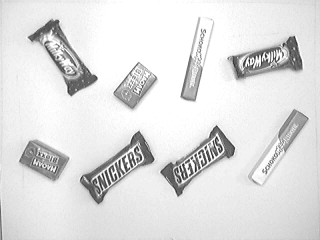Maoam: (111, 60, 160, 111), (17, 137, 71, 183)
Milkyway: (25, 16, 100, 98), (225, 34, 306, 83)
Riegel: (247, 107, 311, 188), (177, 14, 216, 104)
Snickers: (76, 129, 157, 206), (159, 123, 238, 199)
